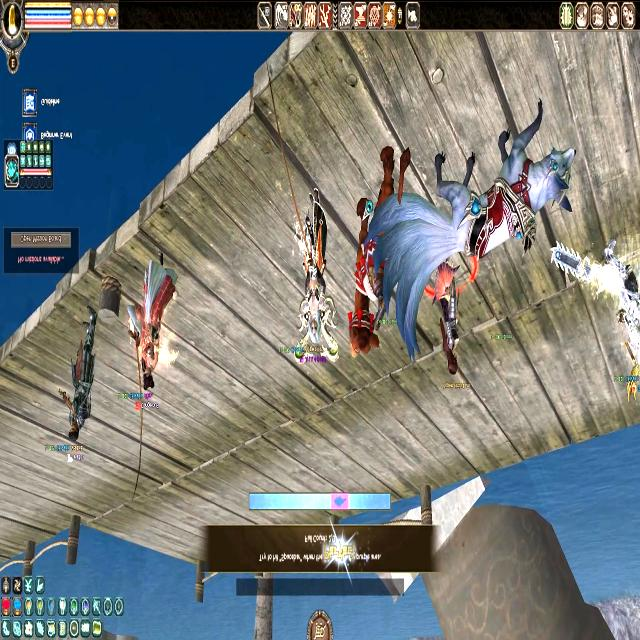fishes: (332, 494, 348, 508)
